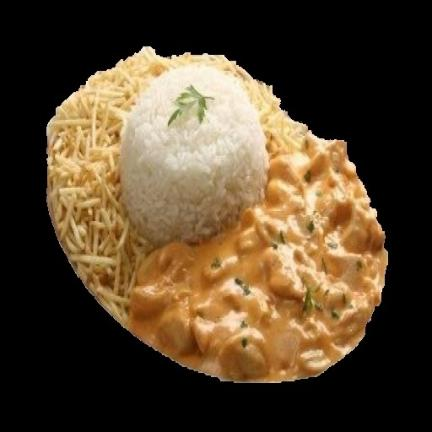chicken: (129, 138, 386, 380)
potato: (46, 46, 307, 324)
rice: (121, 63, 268, 245)
